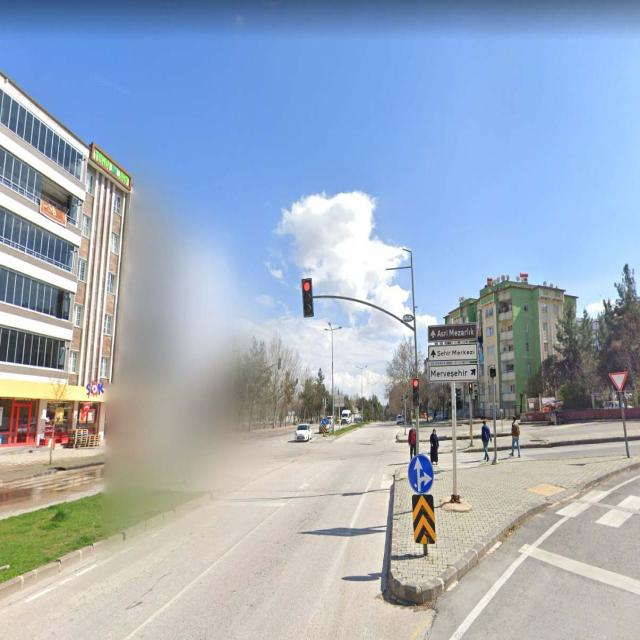ilerisag: (409, 454, 433, 493)
kirmizi: (303, 280, 313, 317), (413, 380, 419, 406)
